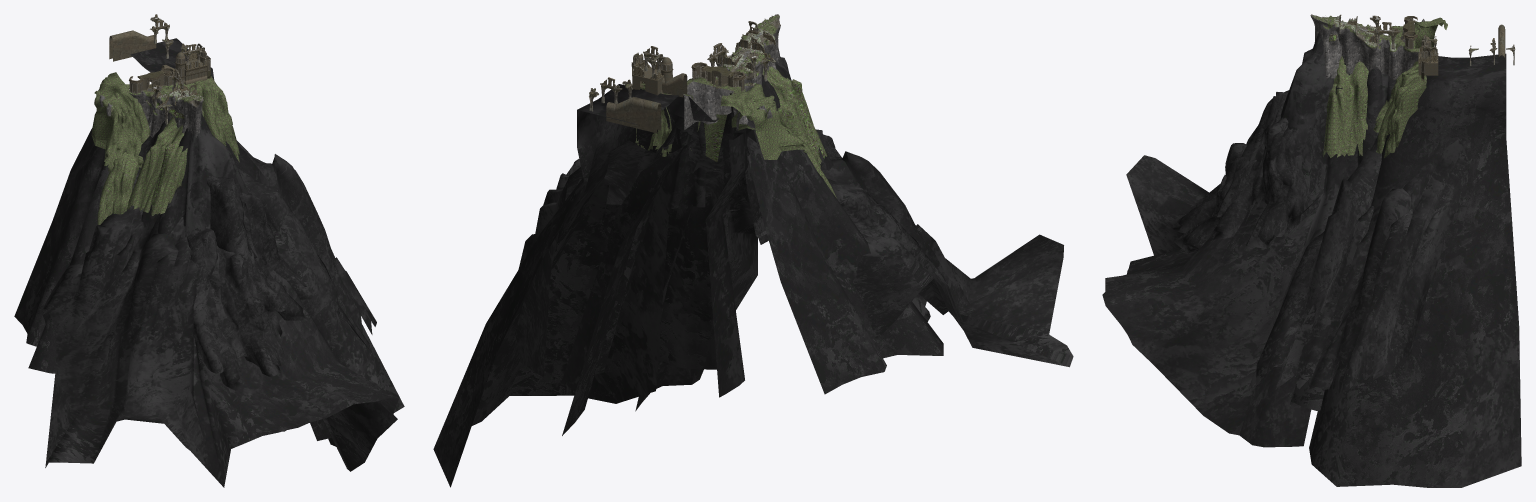
File: map_part4.fbx
The picture shows the model from 3 angles, left to right: view 1: azimuth 30°, elevation 25°; view 2: azimuth 150°, elevation 25°; view 3: azimuth 270°, elevation 25°; orthographic projection. The views are drawn at different scales.
Parts seen in each view (by area): view 1: m5200B1A18, m5101B1A18, m5000B1A18, m5010B1A18, m5100B1A18; view 2: m5200B1A18, m5000B1A18, m5101B1A18, m5100B1A18; view 3: m5200B1A18, m5000B1A18, m5101B1A18, m5010B1A18.
Boxes of the visible parts, box(x1,y1,x2,y2) form: m5200B1A18: box(14, 38, 404, 487); m5101B1A18: box(109, 14, 210, 84); m5000B1A18: box(128, 68, 199, 137); m5010B1A18: box(176, 94, 203, 137); m5100B1A18: box(129, 68, 174, 93); m5200B1A18: box(433, 57, 1073, 487); m5000B1A18: box(683, 21, 775, 130); m5101B1A18: box(589, 46, 687, 133); m5100B1A18: box(691, 62, 745, 91); m5200B1A18: box(1102, 17, 1521, 487); m5000B1A18: box(1334, 14, 1419, 79); m5101B1A18: box(1418, 24, 1515, 81); m5010B1A18: box(1310, 15, 1342, 78).
Size of the model in its own units: 296 by 252 by 256.
